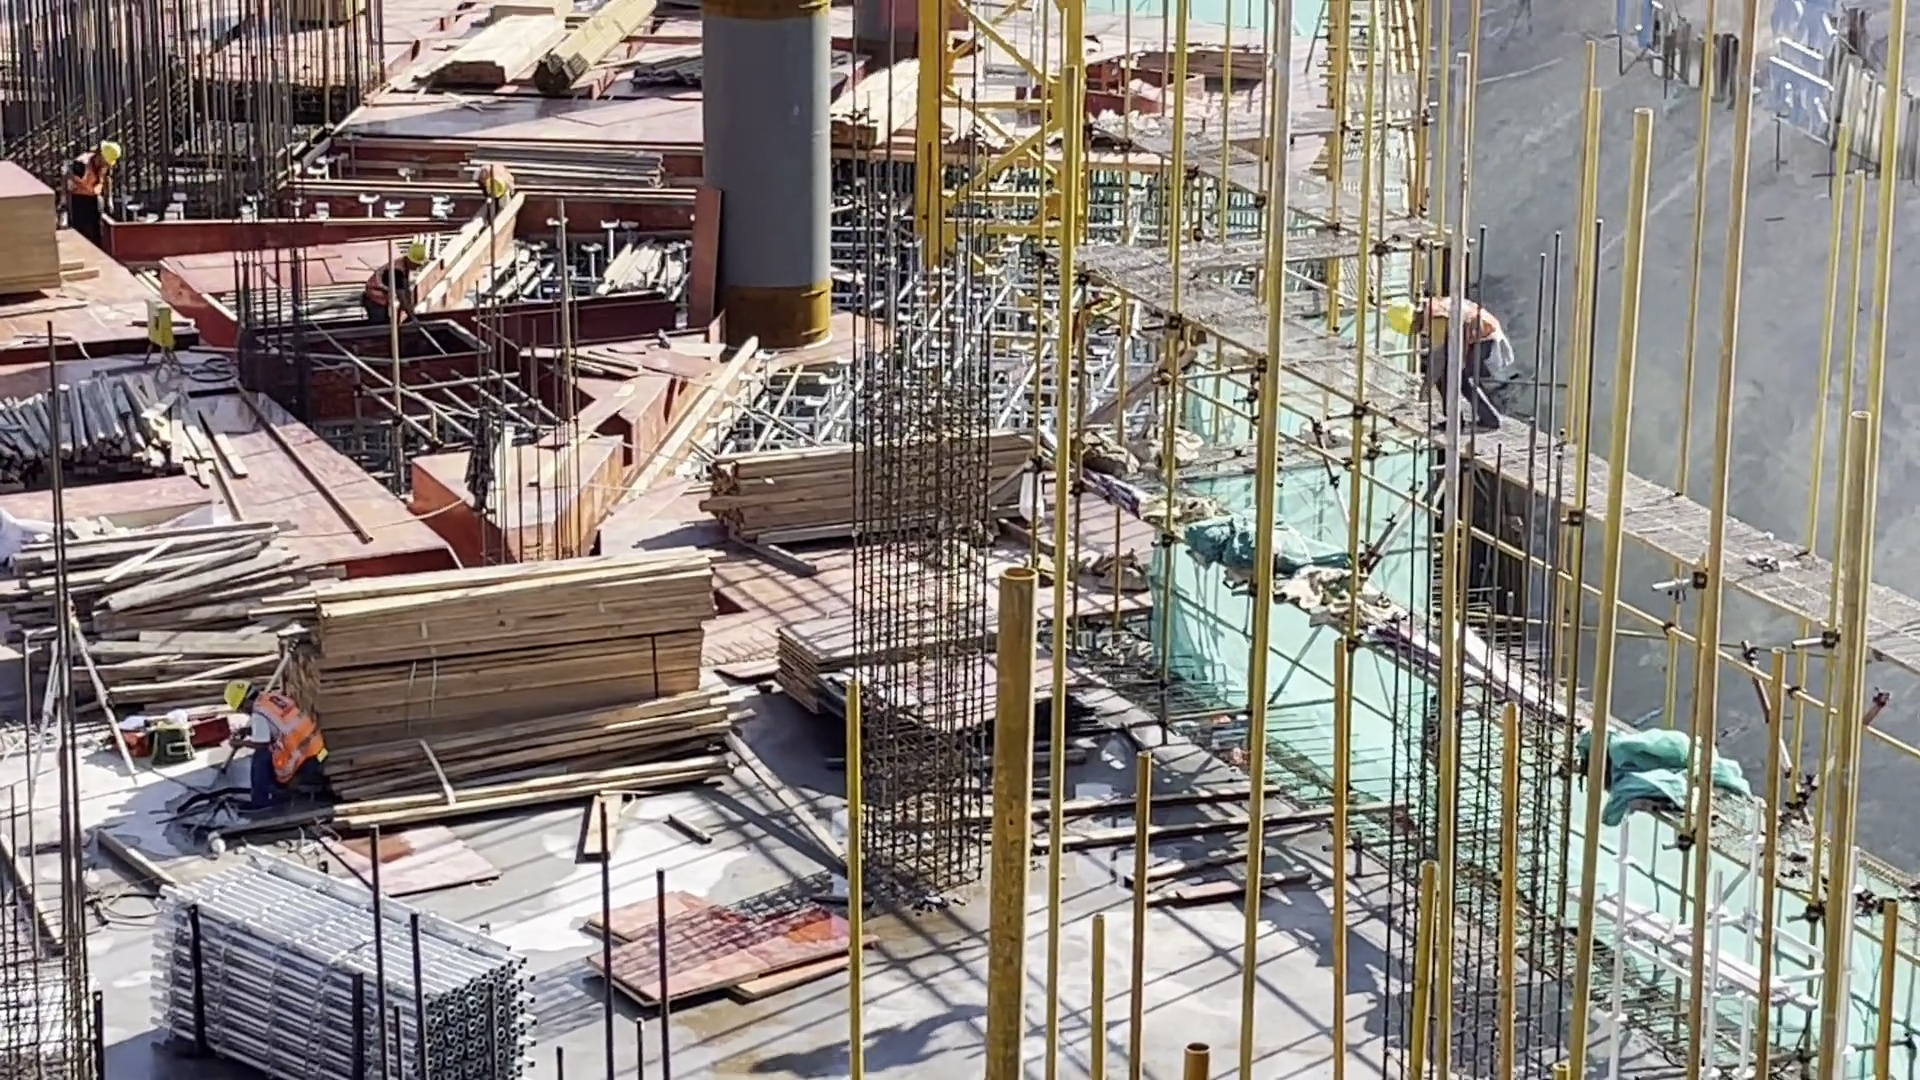board: (776, 607, 1086, 739), (1, 148, 64, 307)
helmet: (1381, 297, 1415, 336), (225, 682, 250, 708), (95, 140, 120, 162), (406, 239, 429, 261), (483, 179, 510, 197)
person: (1382, 291, 1507, 449), (222, 674, 332, 832), (366, 237, 430, 324), (64, 142, 121, 228), (469, 157, 517, 224)
scaffold: (147, 849, 539, 1080)
vest: (255, 689, 325, 781), (1423, 292, 1499, 350), (366, 257, 407, 306), (68, 151, 103, 198)
wood: (254, 543, 746, 831), (7, 524, 313, 701), (700, 428, 1039, 542), (2, 370, 229, 485), (432, 7, 558, 87), (831, 50, 924, 152)
